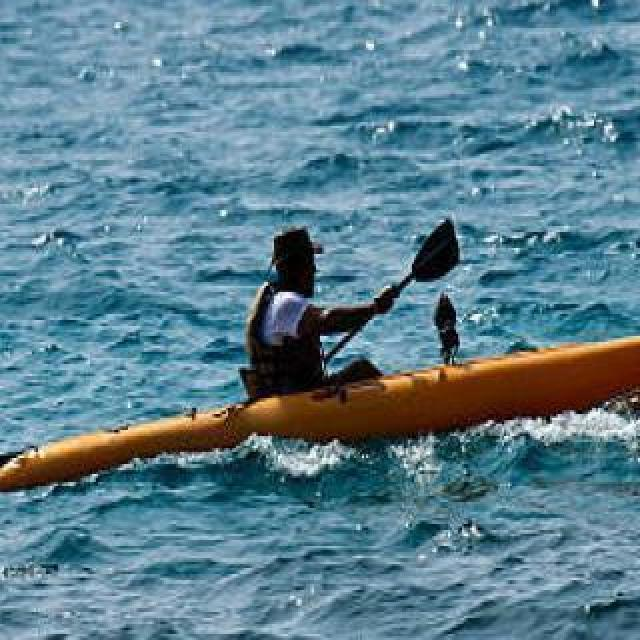kayak: (0, 331, 640, 487)
